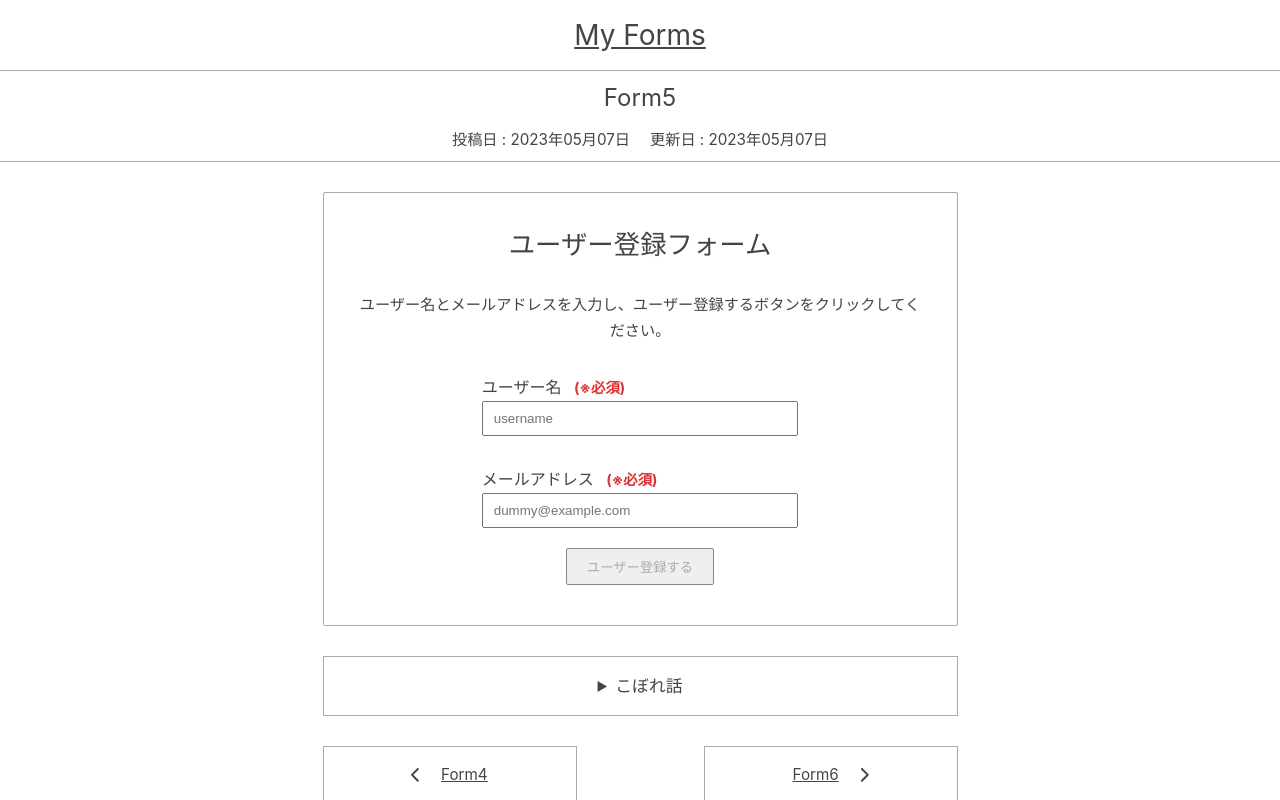
Test case: Form4 › フォームにメールアドレスを入力した時、各要素が正しい状態になること › ユーザー名フォームに何も入力せずフォーカスを外した時、エラーメッセージが表示されること
Step 1. Click the field labelled "ユーザー名 (※必須)" → (640, 418), box [482,401,798,436]
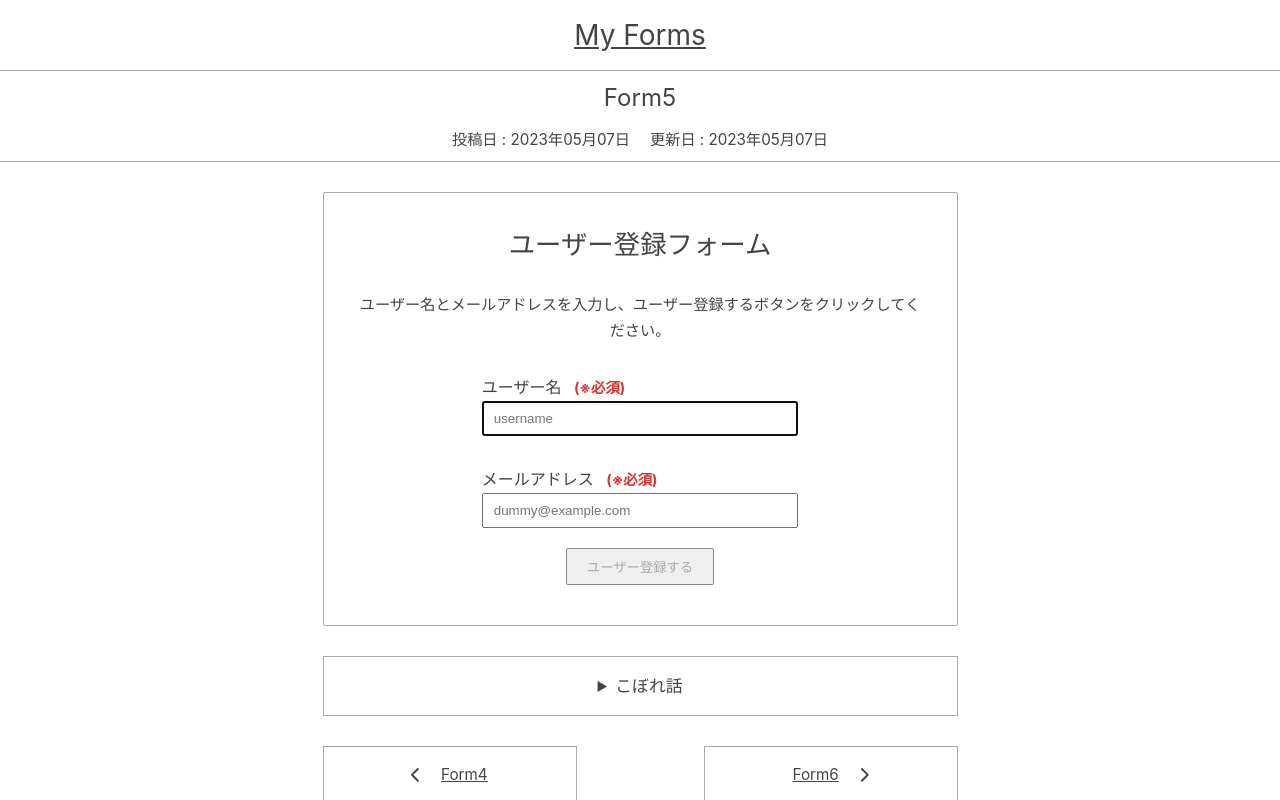
Step 2. Press Tab
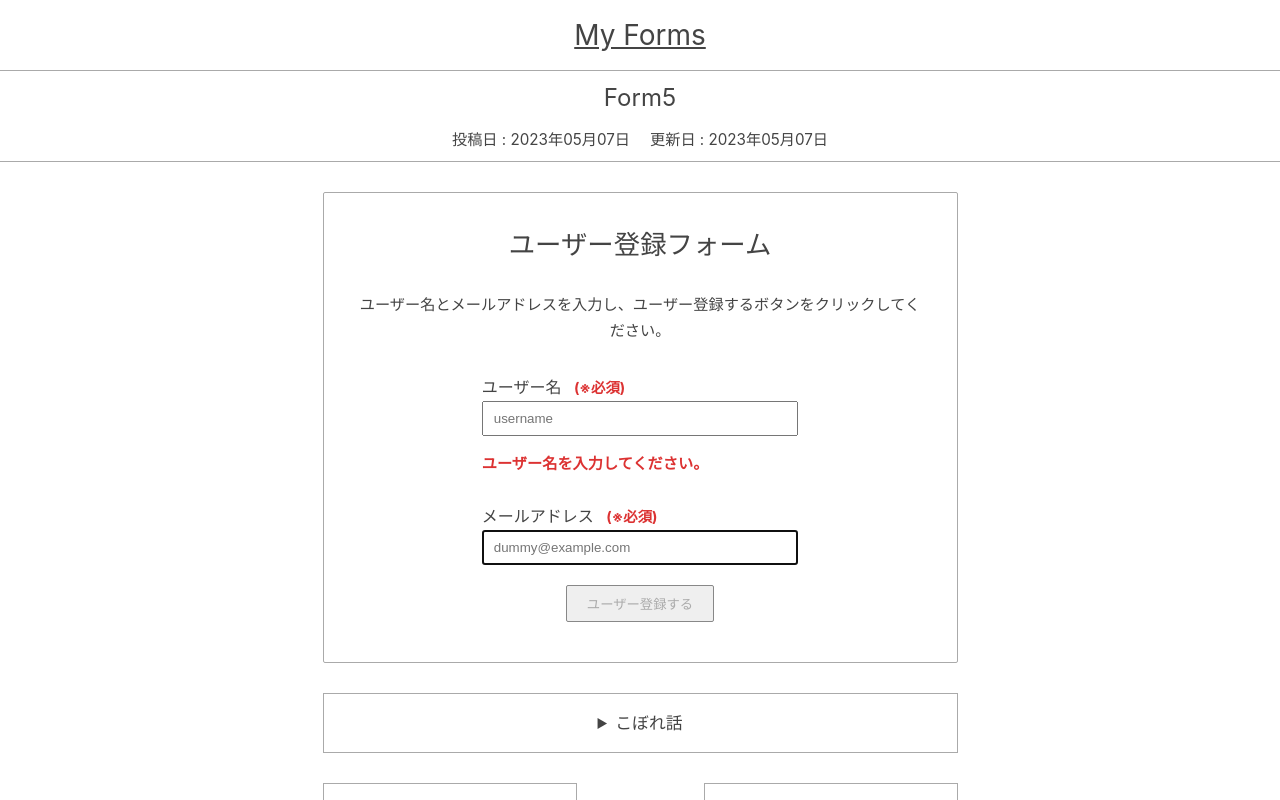
expect the text "ユーザー名を入力してください。" is shown: met, box [482,454,708,473]
